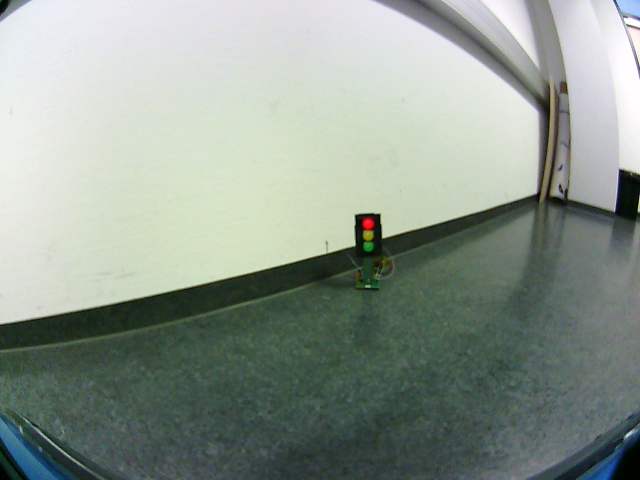red trafficlight: (357, 214, 377, 256)
